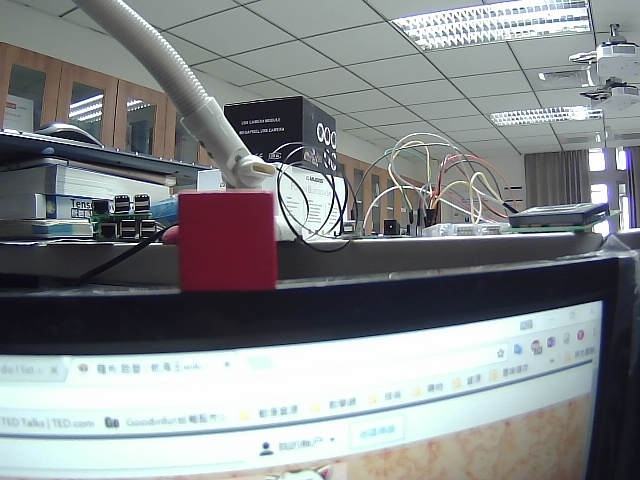redbox: (175, 183, 288, 296)
